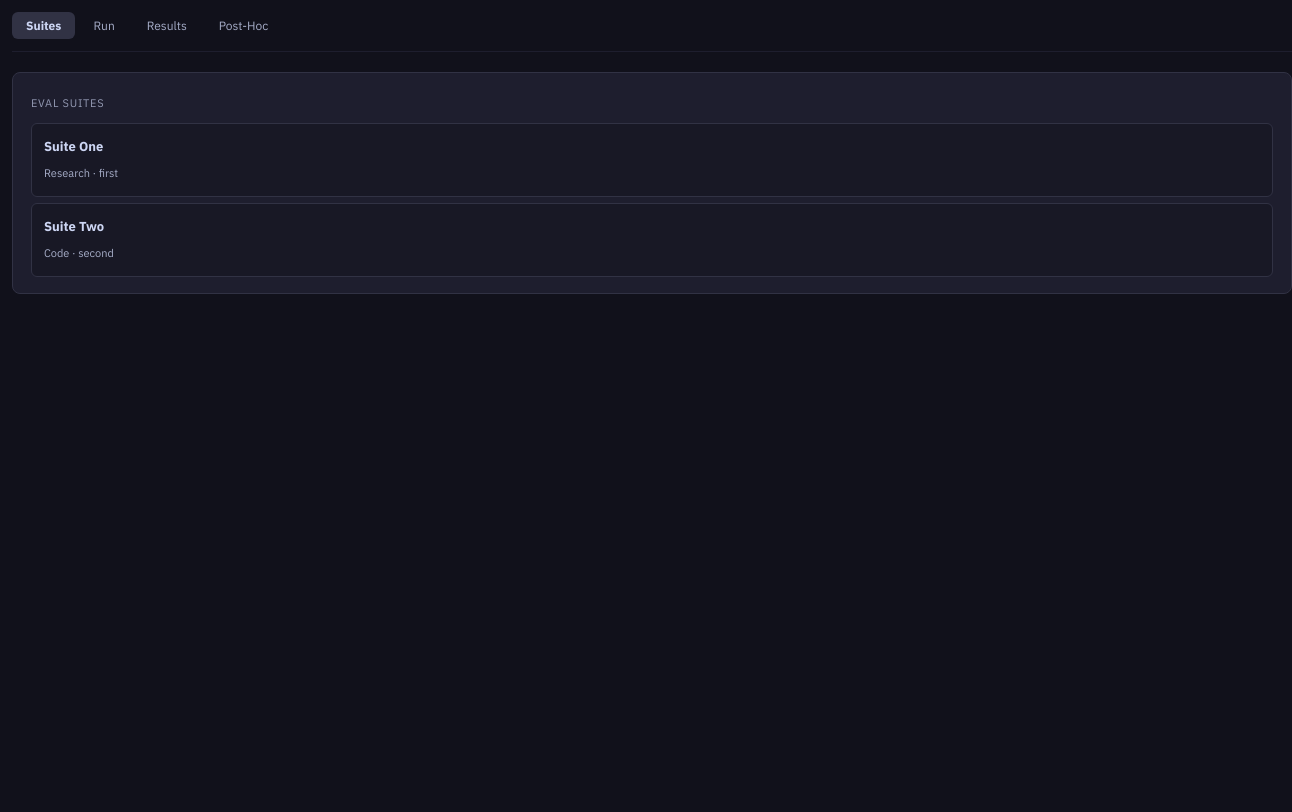
Test case: H2b — Evals must not let a stale response win › ignores a stale results response when the run selection moved on (L258)
Click the button "Suite One Research · first" at point(74, 147), box [31,123,1273,197]
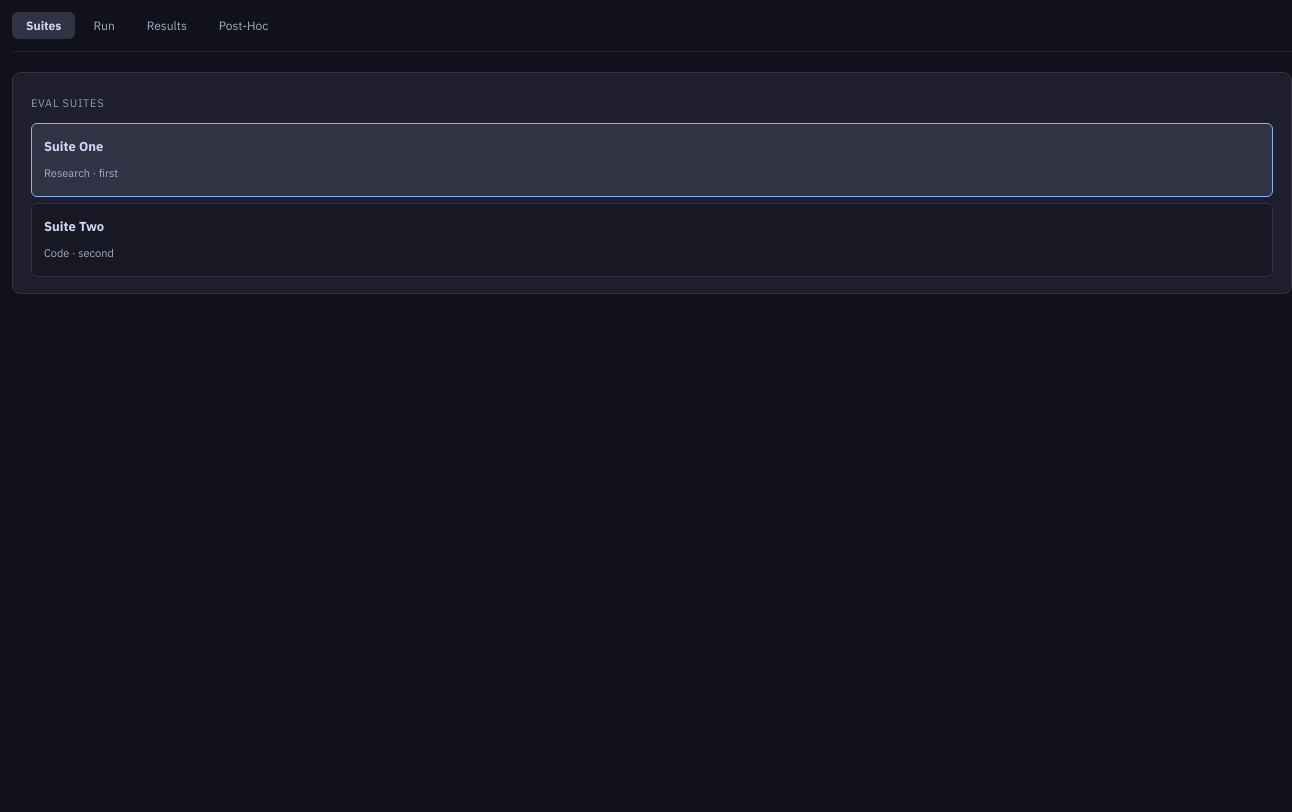
Click the button "Results" at point(167, 26), box [133,12,201,39]
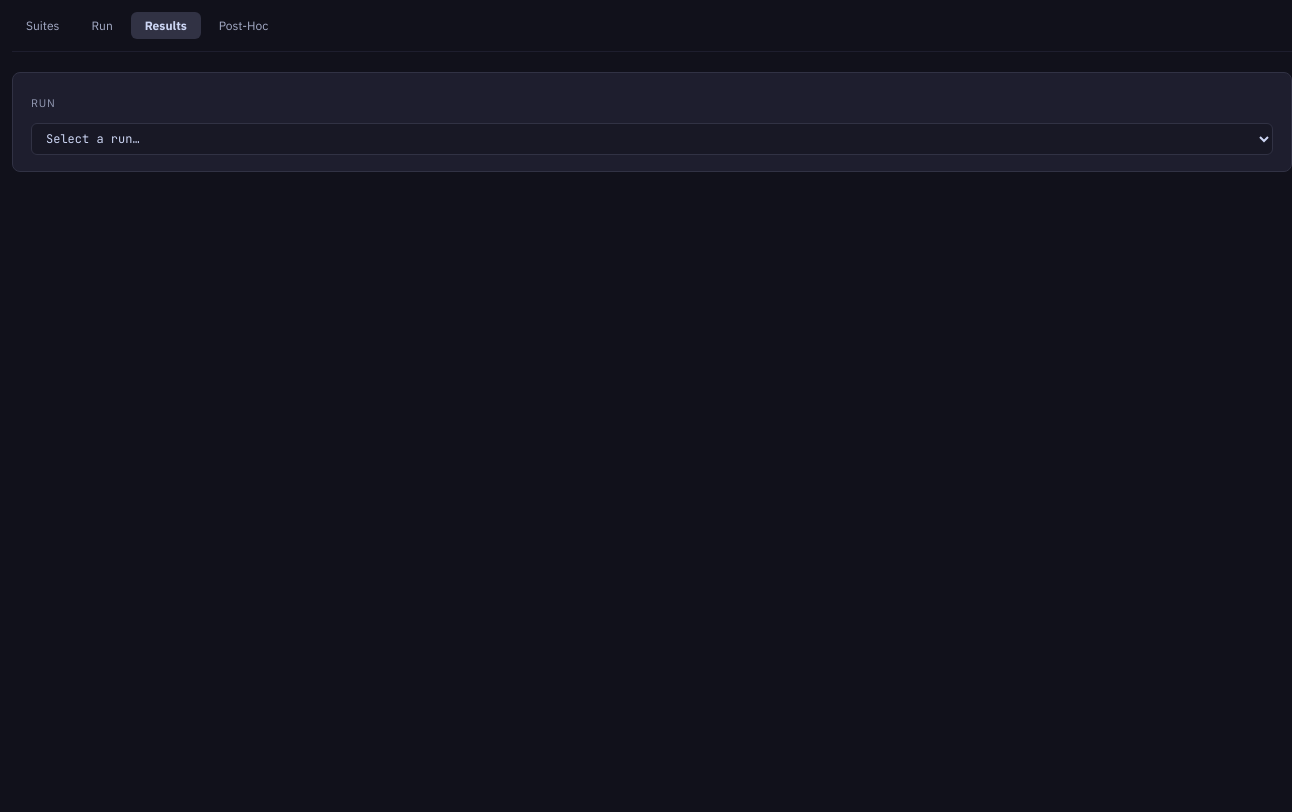
Select "va — Completed — 7/30/2026, 9:00:00 AM" in the dropdown named "Run" at point(652, 139), box [31,123,1273,155]
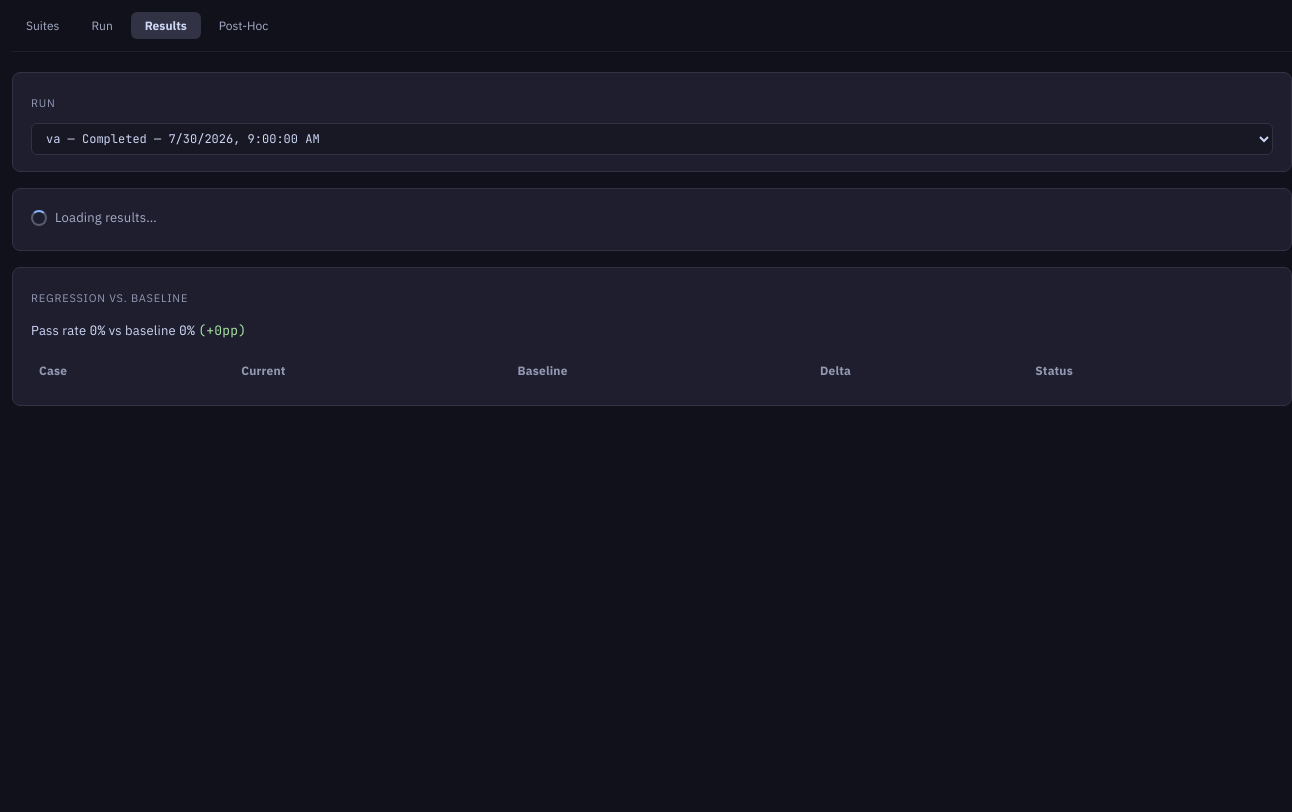
Select "vb — Completed — 7/30/2026, 10:00:00 AM" in the dropdown named "Run" at point(652, 139), box [31,123,1273,155]
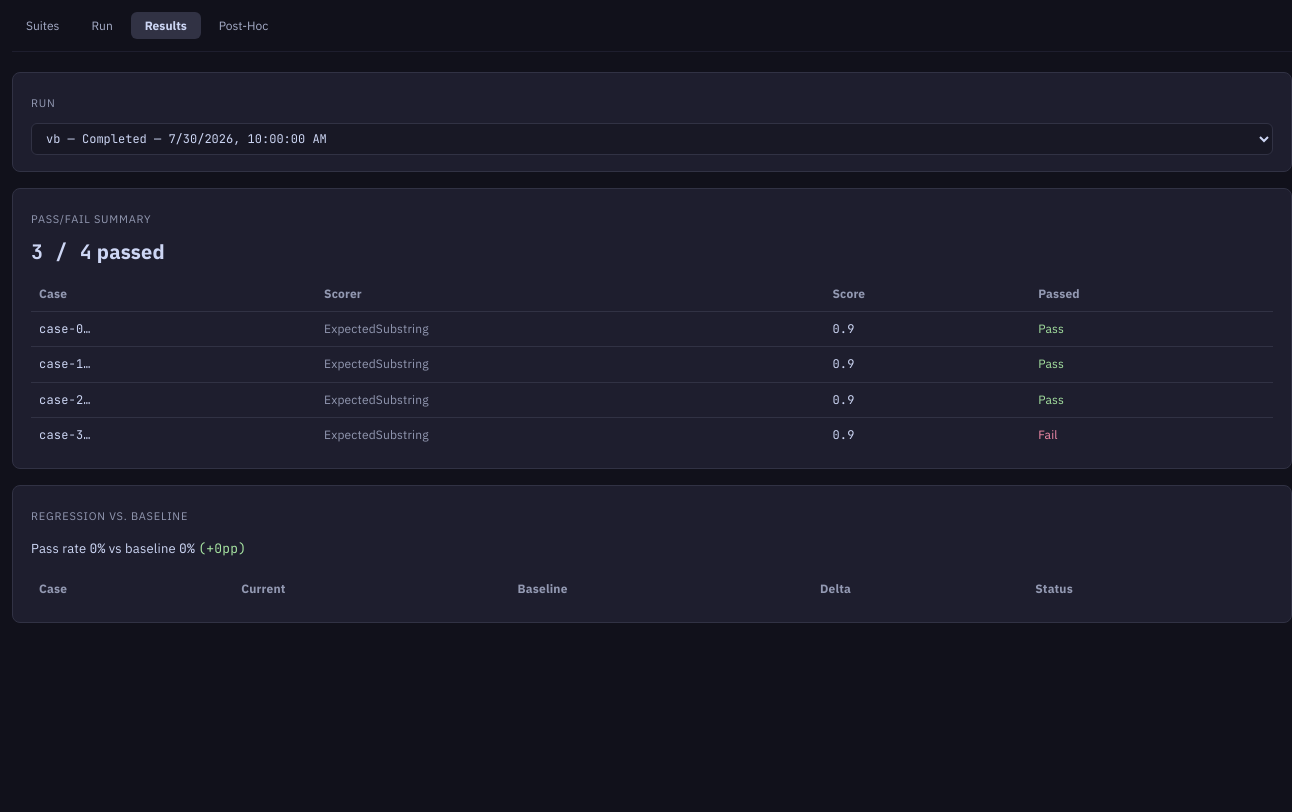
expect the text "3 / 4" is shown: met, box [31,239,92,265]
